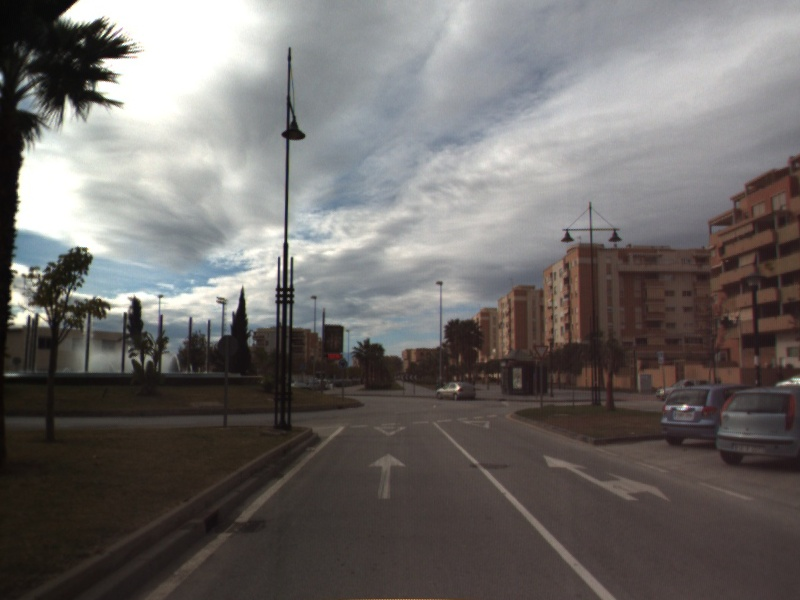STRAIGHT: (366, 451, 408, 501)
STRAIGHT_RIGHT: (542, 453, 672, 504)
